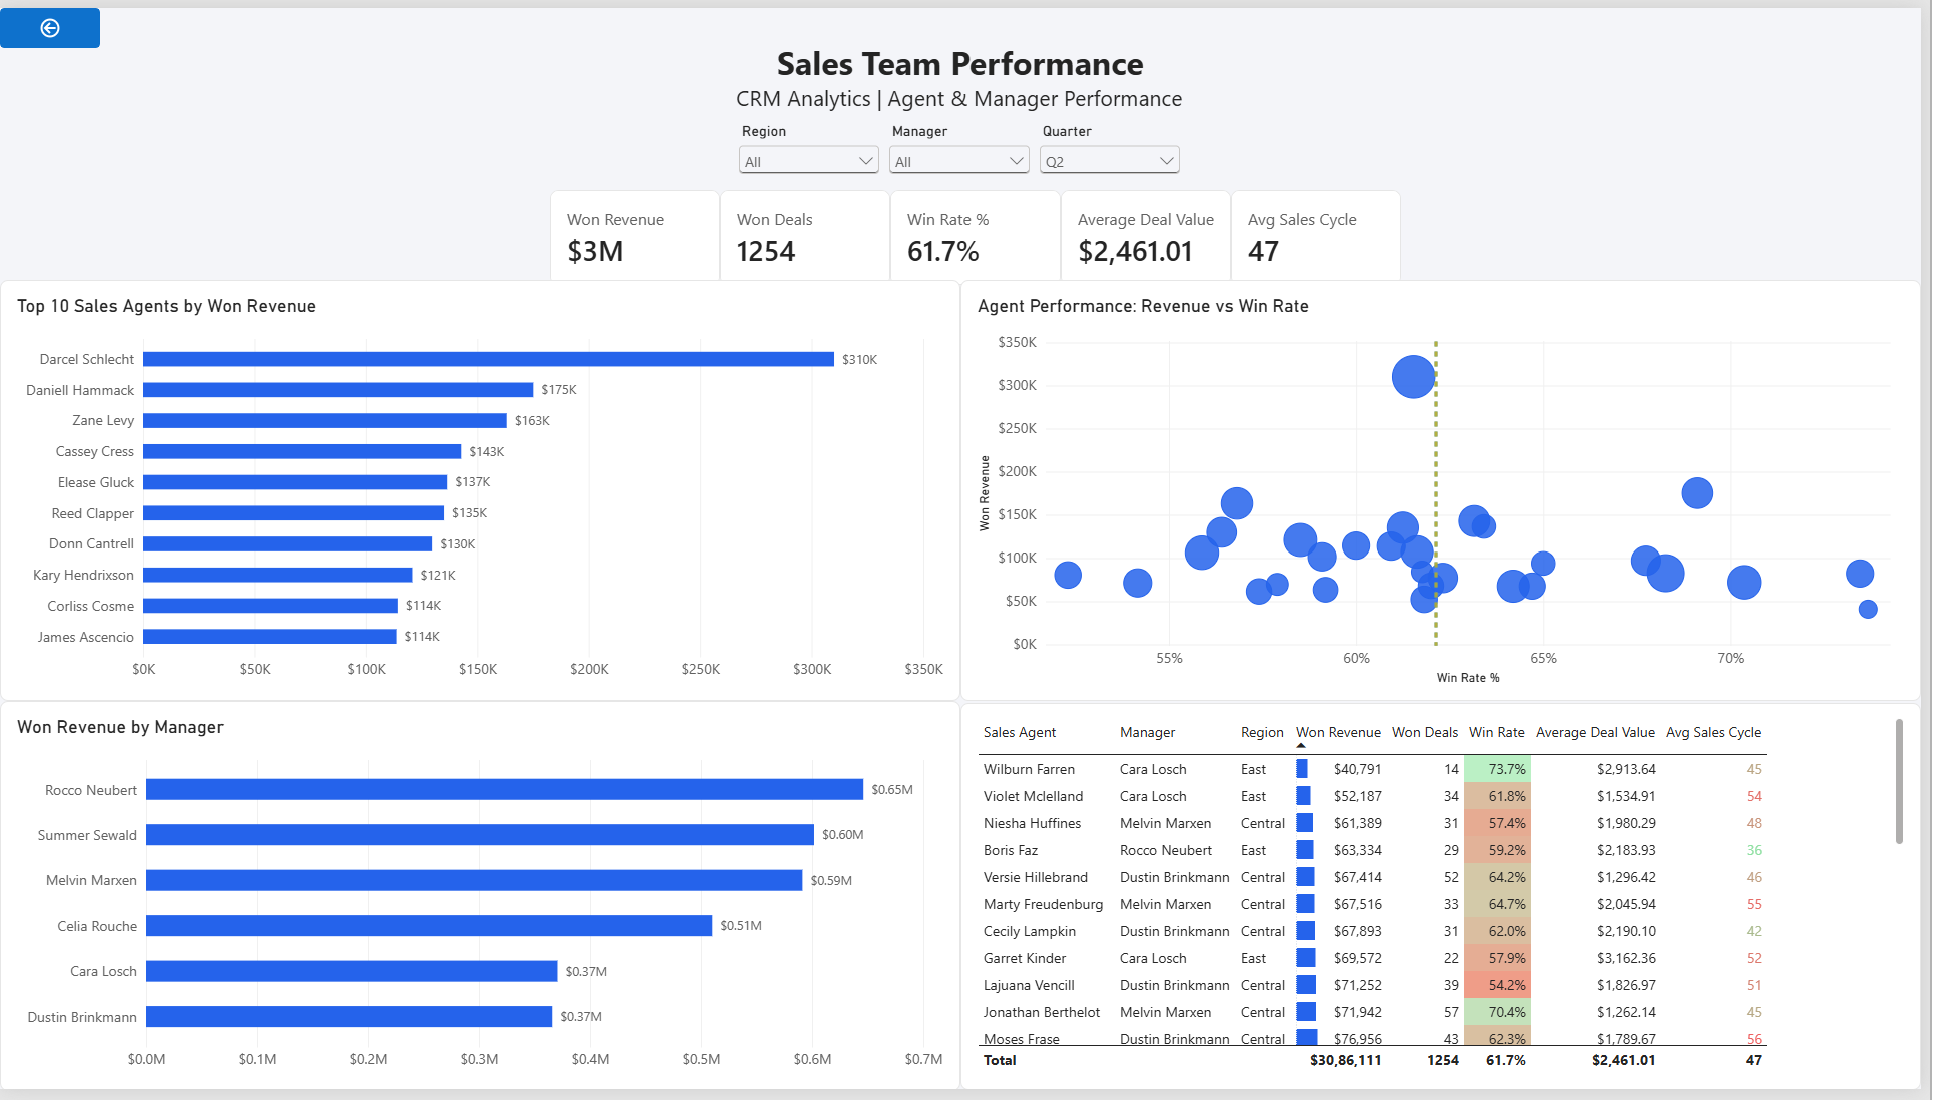

The dashboard page shown, as its layout file describes it:
{"tool":"powerbi","page":{"name":"Sales Team Performance","canvas":[1920,1080],"ordinal":1},"visuals":[{"type":"textbox","box":[0,32.5,1920,115],"z":0},{"type":"cardVisual","fields":{"Data":["sales pipeline.Won Revenue"]},"box":[550.8,181.7,170,95],"z":1000},{"type":"cardVisual","fields":{"Data":["sales pipeline.Won Deals"]},"box":[720.8,181.7,170,95],"z":2000},{"type":"cardVisual","fields":{"Data":["sales pipeline.Win Rate %"]},"box":[890.8,181.7,170,95],"z":3000},{"type":"cardVisual","fields":{"Data":["sales pipeline.Average Deal Value"]},"box":[1060.8,181.7,170,95],"z":4000},{"type":"cardVisual","fields":{"Data":["sales pipeline.Avg Sales Cycle Days"]},"box":[1230.8,181.7,170,95],"z":5000},{"type":"slicer","fields":{"Values":["sales teams.regional_office"]},"box":[733.8,113.8,150,95],"z":6000},{"type":"slicer","fields":{"Values":["sales teams.manager"]},"box":[883.8,113.8,150,95],"z":7000},{"type":"slicer","fields":{"Values":["Date.Quarter"]},"box":[1033.8,113.8,150,95],"z":8000},{"type":"clusteredBarChart","title":"Top 10 Sales Agents by Won Revenue","fields":{"Category":["sales teams.sales_agent"],"Y":["sales pipeline.Won Revenue"]},"box":[0,272.5,960,420],"z":9000},{"type":"scatterChart","title":"Agent Performance: Revenue vs Win Rate","fields":{"Category":["sales teams.sales_agent"],"Size":["sales pipeline.Won Deals"],"X":["sales pipeline.Win Rate %"],"Y":["sales pipeline.Won Revenue"]},"box":[960,272.5,960,420],"z":10000},{"type":"clusteredBarChart","title":"Won Revenue by Manager","fields":{"Category":["sales teams.manager"],"Y":["sales pipeline.Won Revenue"]},"box":[0,692.5,960,390],"z":11000},{"type":"tableEx","fields":{"Values":["sales teams.sales_agent","sales teams.manager","sales teams.regional_office","sales pipeline.Won Revenue","sales pipeline.Won Deals","sales pipeline.Win Rate %","sales pipeline.Average Deal Value","sales pipeline.Avg Sales Cycle Days"]},"box":[960,693,960,387],"z":12000},{"type":"actionButton","box":[0,0,100,40],"z":13000}]}

Visuals, with their boxes in screenshot pixels (x1, y1, x2, y2), scaled from the page's 1920x1080 canvas onto the 1934x1100 screenshot:
textbox: 0/33/1933/150
cardVisual - sales pipeline.Won Revenue: 555/185/726/282
cardVisual - sales pipeline.Won Deals: 726/185/897/282
cardVisual - sales pipeline.Win Rate %: 897/185/1069/282
cardVisual - sales pipeline.Average Deal Value: 1069/185/1240/282
cardVisual - sales pipeline.Avg Sales Cycle Days: 1240/185/1411/282
slicer - sales teams.regional_office: 739/116/890/213
slicer - sales teams.manager: 890/116/1041/213
slicer - Date.Quarter: 1041/116/1192/213
"Top 10 Sales Agents by Won Revenue" clusteredBarChart: 0/278/967/705
"Agent Performance: Revenue vs Win Rate" scatterChart: 967/278/1933/705
"Won Revenue by Manager" clusteredBarChart: 0/705/967/1099
tableEx - sales teams.sales_agent x sales teams.manager: 967/706/1933/1099
actionButton: 0/0/101/41
